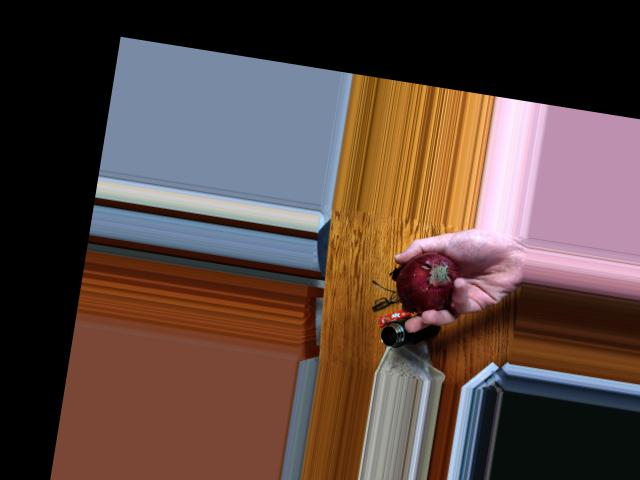onion: (398, 247, 463, 317)
